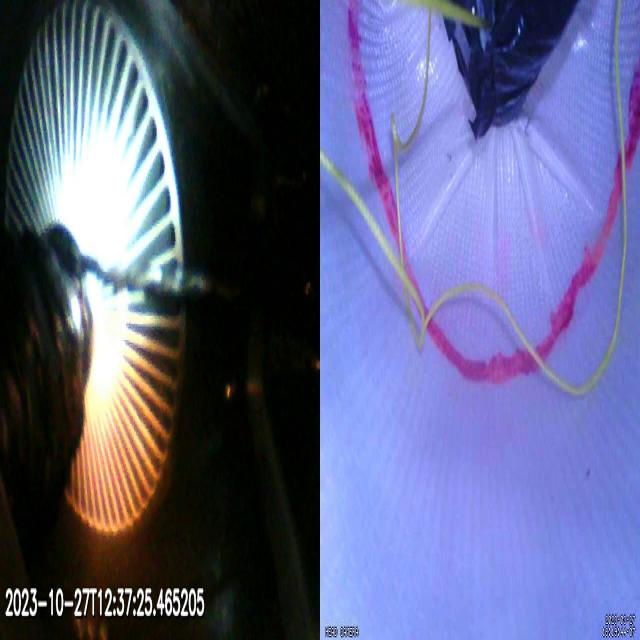red-circle: (345, 0, 640, 387)
